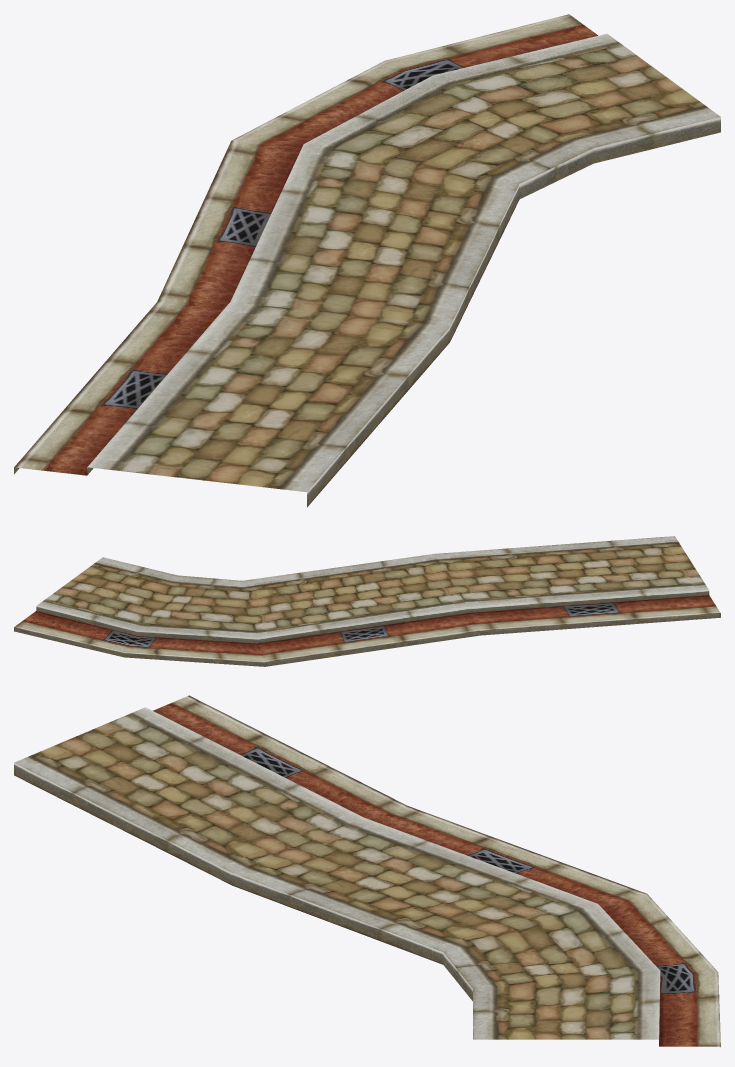
Rendered from obj_masabkrououtle02.glb.
3 renders of one model, top to bottom at view 1: azimuth 30°, elevation 25°; view 2: azimuth 150°, elevation 25°; view 3: azimuth 270°, elevation 25°, orthographic. The views are drawn at different scales.
Visible parts, largest first — view 1: part_0; view 2: part_0; view 3: part_0.
Boxes of the visible parts, x1,y1,x2,y2 form: part_0: [14, 14, 720, 507]; part_0: [14, 536, 720, 666]; part_0: [14, 695, 720, 1047].
Size of the model in its own units: 13.41 by 0.2275 by 11.41.
Materials: 1 (1 with a texture image).
